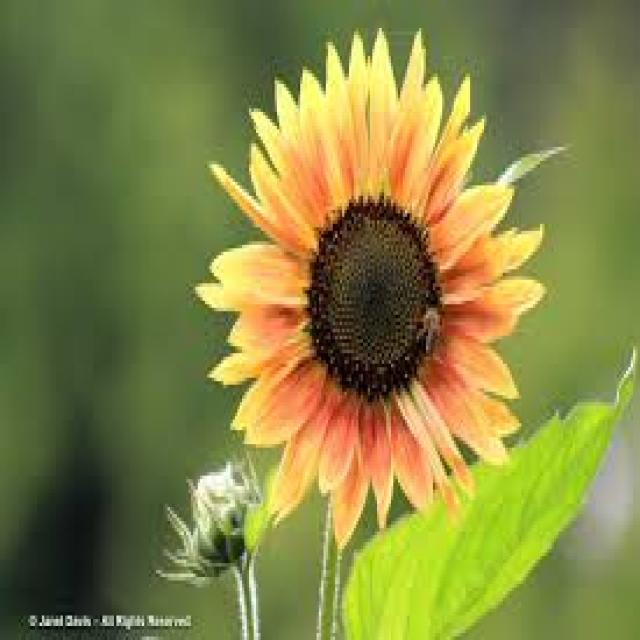sunflower: (191, 19, 581, 558)
